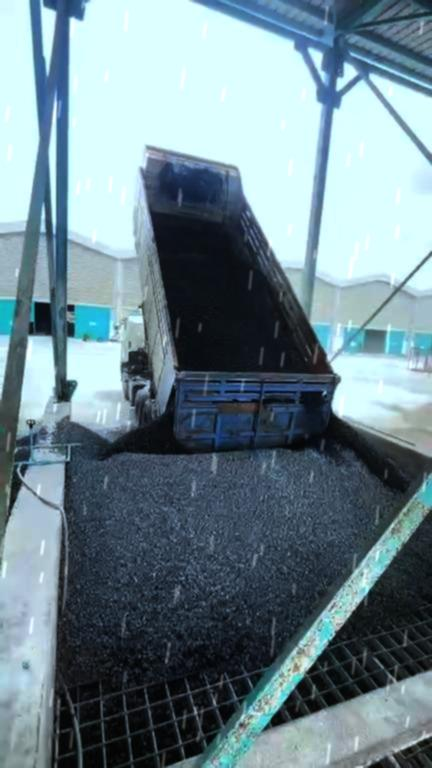gravel: (57, 394, 409, 684), (153, 218, 303, 372), (346, 515, 431, 633), (9, 433, 29, 511)
sand: (355, 401, 431, 450)
